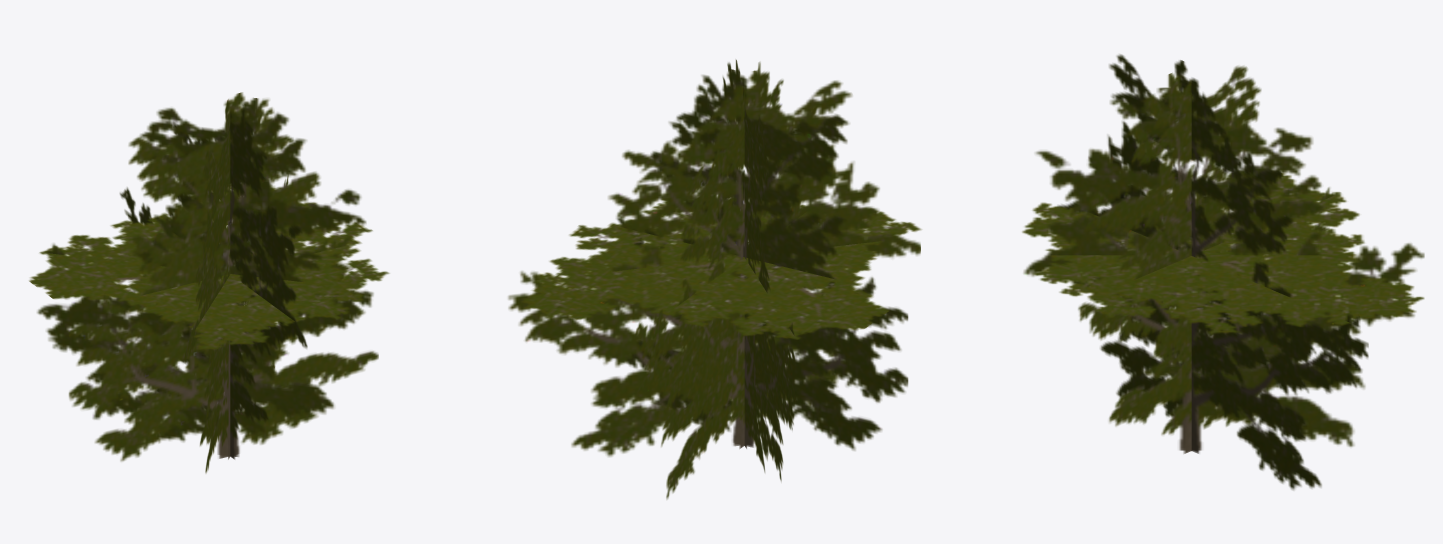
Rendered from maple_acer_large_1_billboard.gltf.
3 renders of one model, left to right at view 1: azimuth 30°, elevation 25°; view 2: azimuth 150°, elevation 25°; view 3: azimuth 270°, elevation 25°, orthographic. The views are drawn at different scales.
Visible parts, largest first — view 1: Acer_large_1_Billboard_LOD3_Acer_large_1_Billboard_Mat_0; view 2: Acer_large_1_Billboard_LOD3_Acer_large_1_Billboard_Mat_0; view 3: Acer_large_1_Billboard_LOD3_Acer_large_1_Billboard_Mat_0.
Boxes of the visible parts, x1=… form: Acer_large_1_Billboard_LOD3_Acer_large_1_Billboard_Mat_0: x1=29, y1=92, x2=389, y2=473; Acer_large_1_Billboard_LOD3_Acer_large_1_Billboard_Mat_0: x1=508, y1=60, x2=921, y2=499; Acer_large_1_Billboard_LOD3_Acer_large_1_Billboard_Mat_0: x1=1022, y1=54, x2=1424, y2=490.
Size of the model in its own units: 18.69 by 20.58 by 19.72.
Materials: 1 (1 with a texture image).
